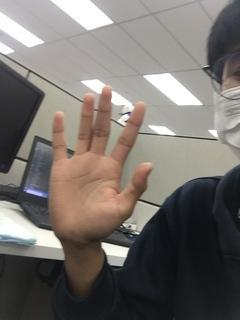hand: (47, 86, 154, 242)
